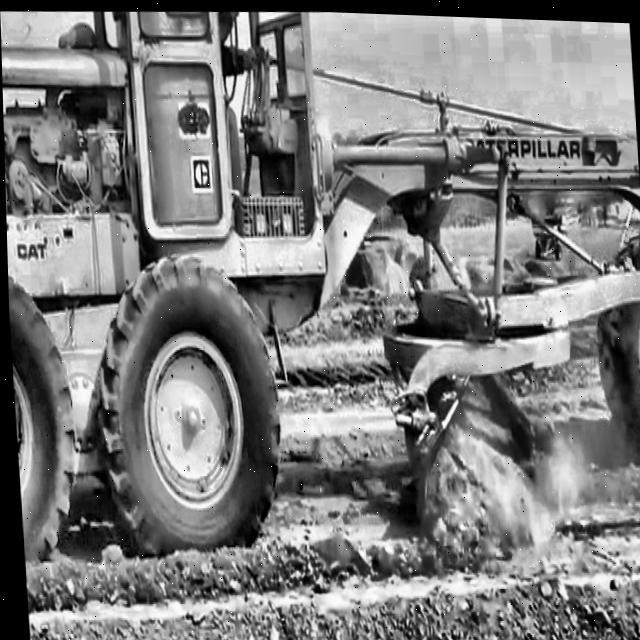buldozerpayloadergrader: (0, 0, 640, 567)
